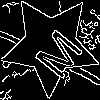M: (25, 20, 85, 82)
